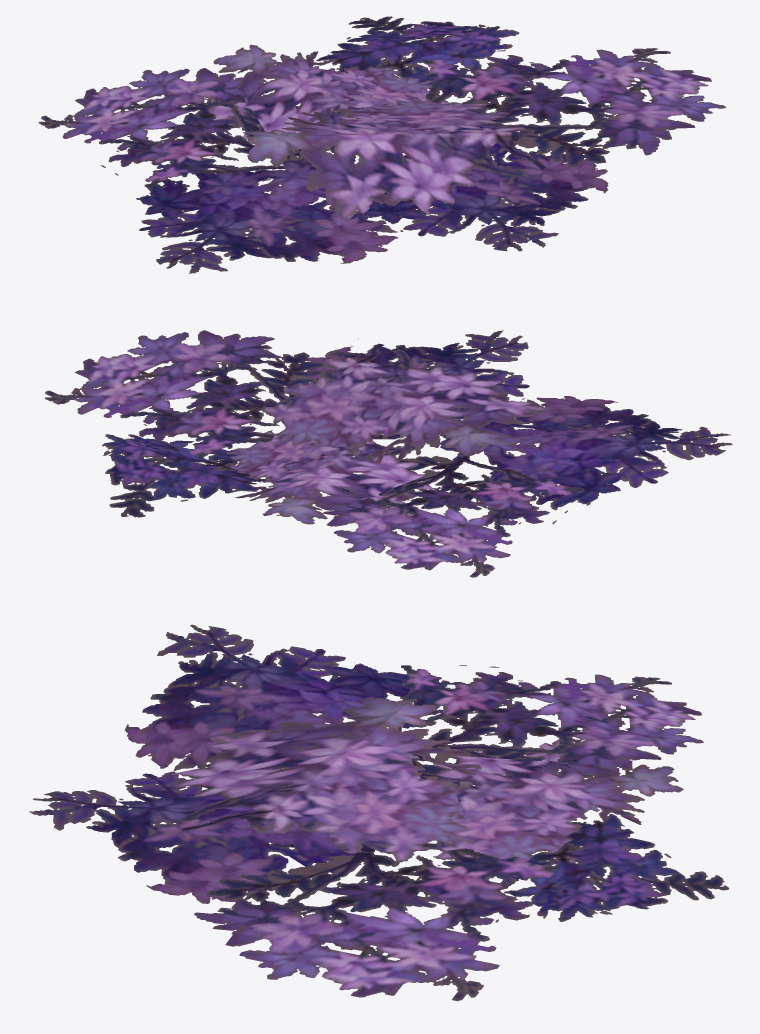
Rendered from XSZY_tree9.fbx.
The picture shows the model from 3 angles, top to bottom: view 1: azimuth 30°, elevation 25°; view 2: azimuth 150°, elevation 25°; view 3: azimuth 270°, elevation 25°; orthographic projection. The views are drawn at different scales.
Visible parts, largest first — view 1: XSZY_tree9; view 2: XSZY_tree9; view 3: XSZY_tree9.
Boxes of the visible parts, bbox=[...] form: XSZY_tree9: bbox=[38, 16, 725, 273]; XSZY_tree9: bbox=[44, 330, 732, 577]; XSZY_tree9: bbox=[29, 624, 729, 1001].
Size of the model in its own units: 0.4755 by 0.0275 by 0.3876.
